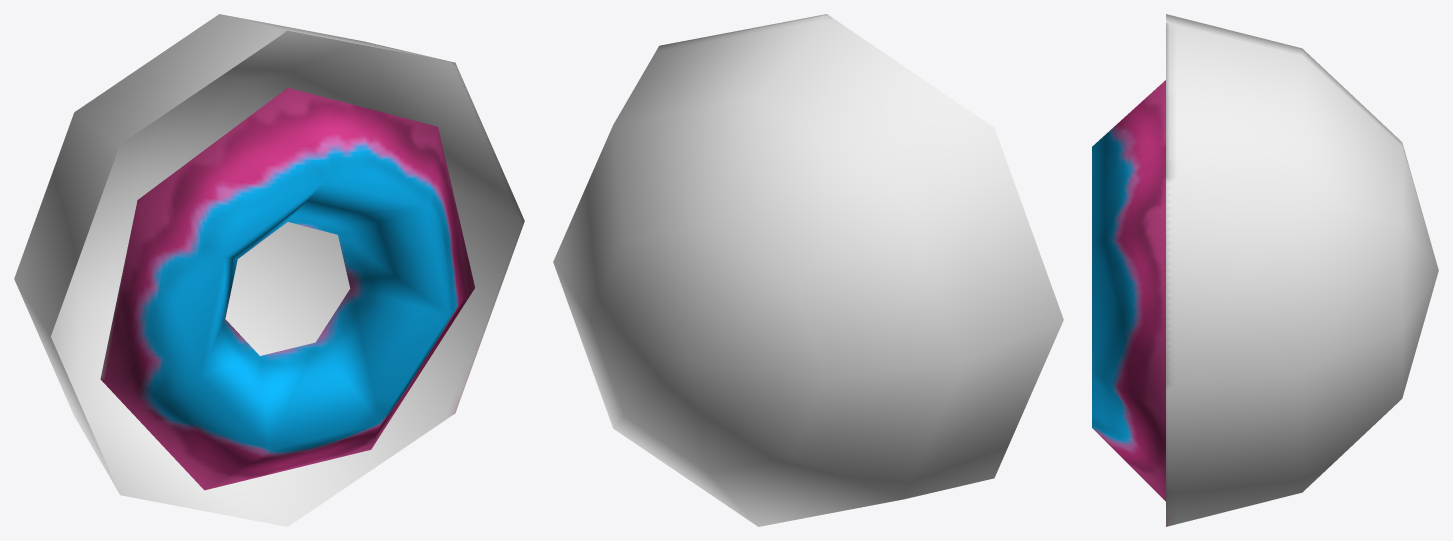
File: Boost_double_sugar_coat.FBX
The picture shows the model from 3 angles, left to right: view 1: azimuth 30°, elevation 25°; view 2: azimuth 150°, elevation 25°; view 3: azimuth 270°, elevation 25°; orthographic projection.
Parts seen in each view (by area): view 1: Shield, Shielded_donut; view 2: Shield; view 3: Shield, Shielded_donut.
Part boxes in pixels (x1,y1,x2,y2): Shield: [14, 14, 524, 526]; Shielded_donut: [100, 88, 474, 490]; Shield: [553, 14, 1063, 526]; Shield: [1166, 14, 1438, 526]; Shielded_donut: [1092, 80, 1165, 501].
Bounding box in the file's own units: 7.4 × 7.4 × 4.7.
